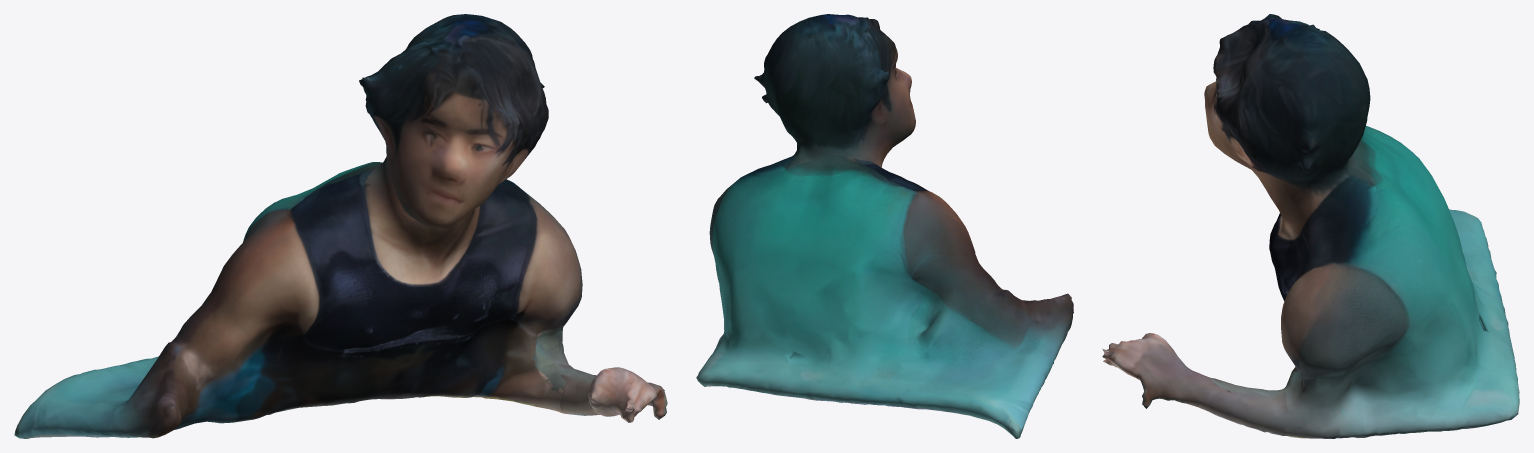
The model's file is mani.glb.
The picture shows the model from 3 angles, left to right: view 1: azimuth 30°, elevation 25°; view 2: azimuth 150°, elevation 25°; view 3: azimuth 270°, elevation 25°; orthographic projection. The views are drawn at different scales.
Size of the model in its own units: 1.2 by 0.9936 by 0.9966.
Materials: 1 (1 with a texture image).
